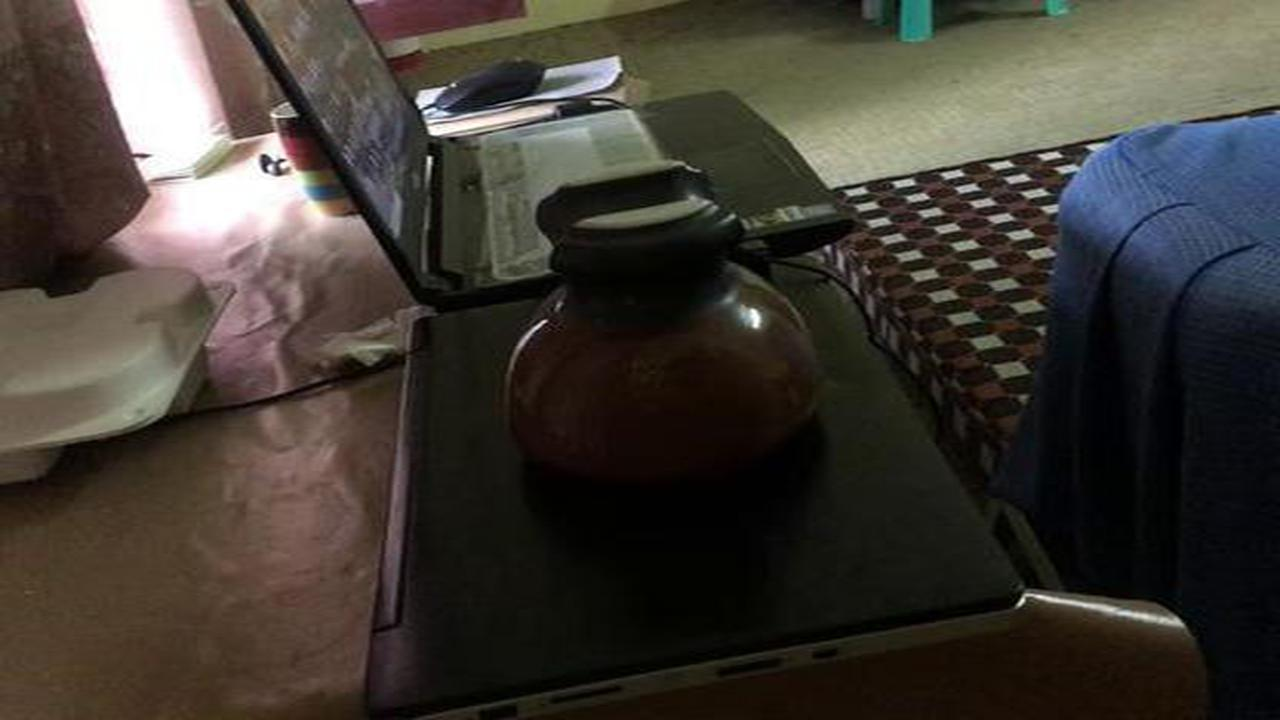insulator_pin: (476, 155, 850, 528)
